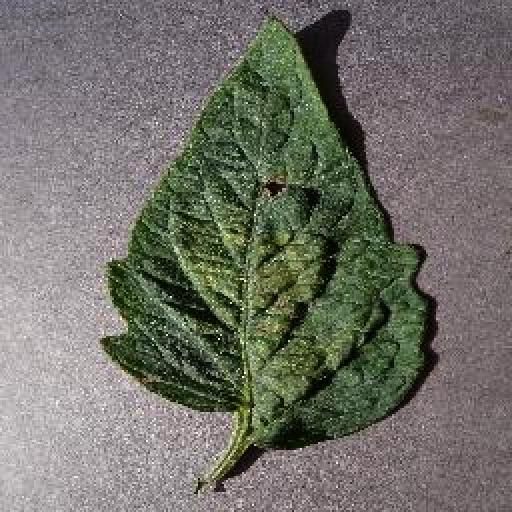disease_tomato: (96, 9, 434, 451)
